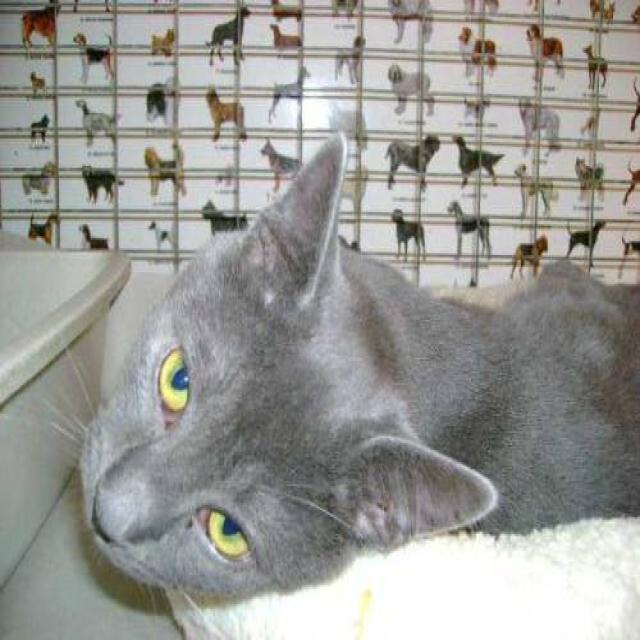cat: (46, 130, 639, 638)
